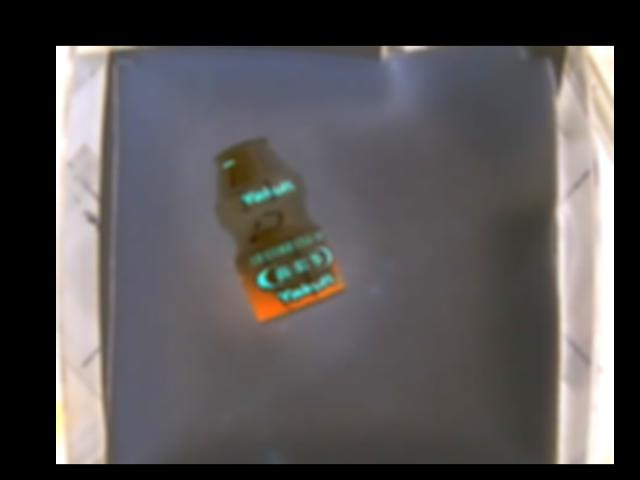Bottle: (208, 137, 346, 324)
